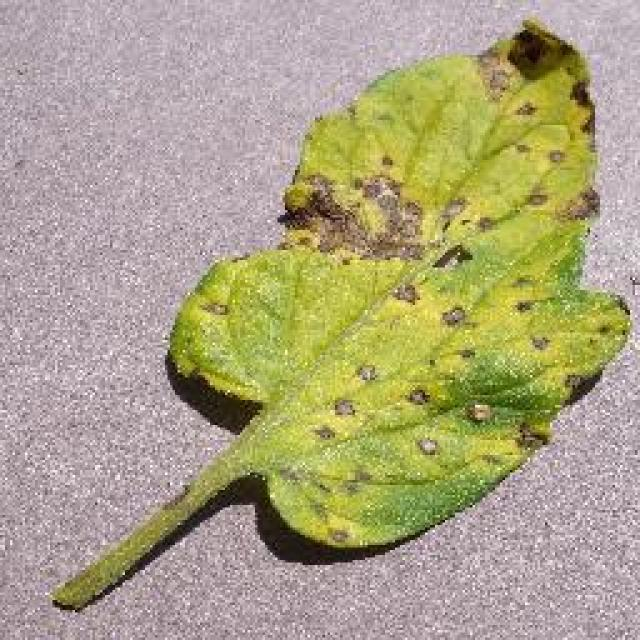Tomato Septoria spot leaf: (166, 24, 632, 554)
